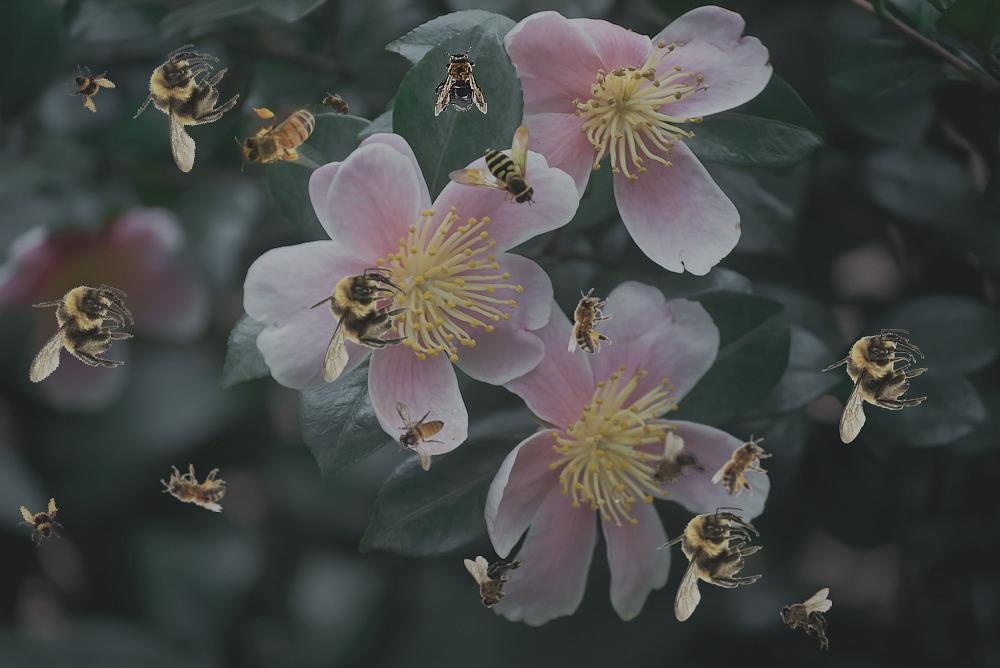Bee: (113, 32, 262, 185), (8, 265, 147, 408), (821, 329, 928, 444), (304, 268, 411, 383), (656, 507, 763, 622), (448, 125, 536, 207), (634, 426, 717, 508), (235, 104, 328, 172), (709, 425, 781, 506), (430, 46, 488, 118), (59, 55, 121, 117), (157, 460, 229, 513), (395, 400, 445, 471), (12, 493, 70, 551), (779, 588, 832, 650), (464, 556, 526, 609), (568, 288, 613, 354), (314, 86, 360, 126)
